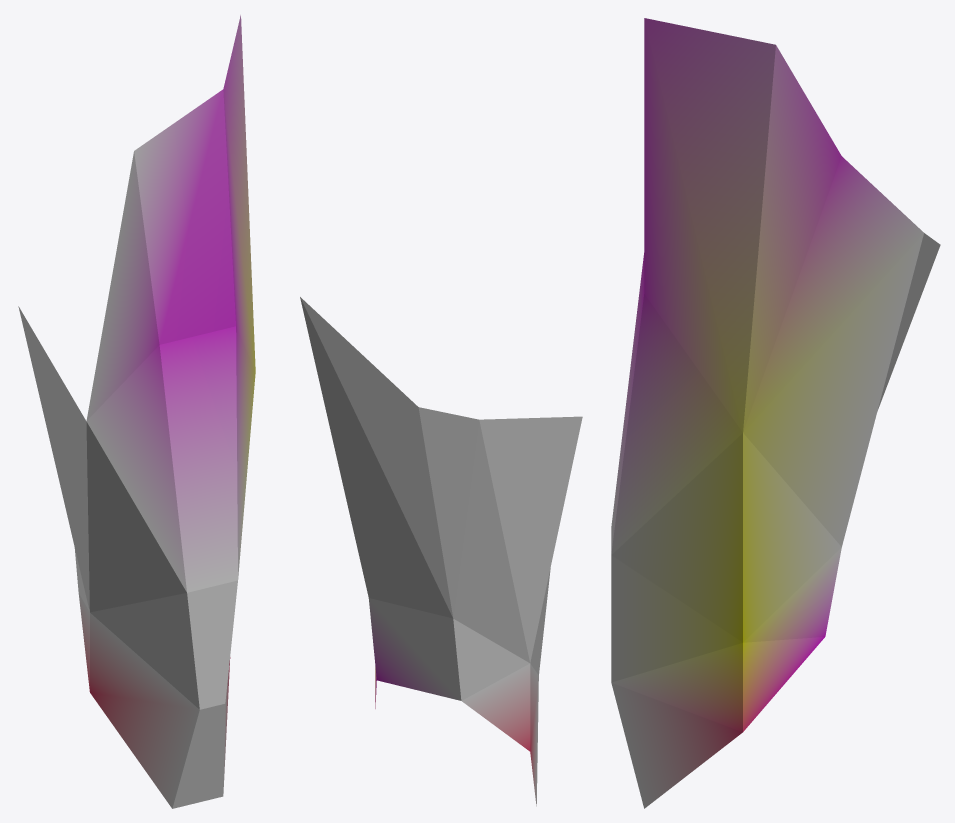
3 renders of one model, left to right at view 1: azimuth 30°, elevation 25°; view 2: azimuth 150°, elevation 25°; view 3: azimuth 270°, elevation 25°, orthographic. The views are drawn at different scales.
Parts seen in each view (by area): view 1: model_11B3; view 2: model_11B3; view 3: model_11B3.
Boxes of the visible parts, <box> form: model_11B3: <box>18,15,255,808</box>; model_11B3: <box>300,297,582,806</box>; model_11B3: <box>611,18,940,808</box>.
Size of the model in its own units: 16 by 54 by 20.
